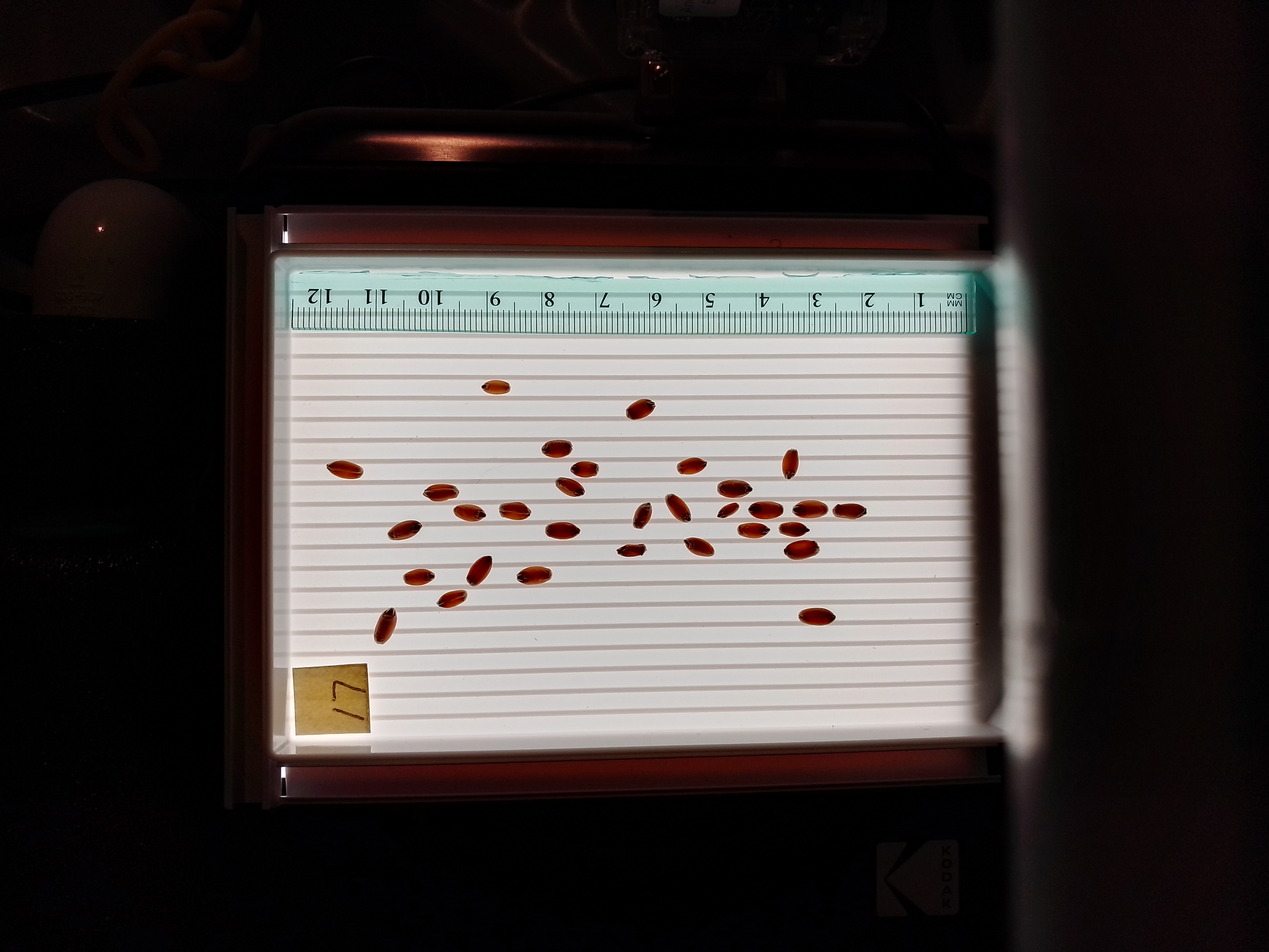seed mask: (374, 608, 397, 644), (466, 557, 492, 586), (666, 494, 692, 521), (517, 566, 551, 585), (388, 521, 421, 540), (785, 540, 818, 559), (794, 500, 827, 519), (328, 461, 362, 479), (718, 480, 752, 498), (799, 608, 834, 625), (424, 484, 457, 502), (750, 501, 783, 519), (546, 522, 579, 539), (626, 400, 654, 420), (685, 538, 713, 557), (543, 440, 572, 458), (557, 478, 584, 497), (834, 503, 866, 519), (404, 569, 434, 586), (500, 503, 530, 520), (438, 591, 466, 608), (455, 505, 484, 521), (634, 504, 653, 528), (783, 451, 799, 479), (678, 459, 706, 475), (739, 523, 768, 538), (483, 380, 510, 395), (572, 462, 598, 477), (780, 523, 808, 536), (618, 544, 645, 557), (719, 504, 738, 518)
